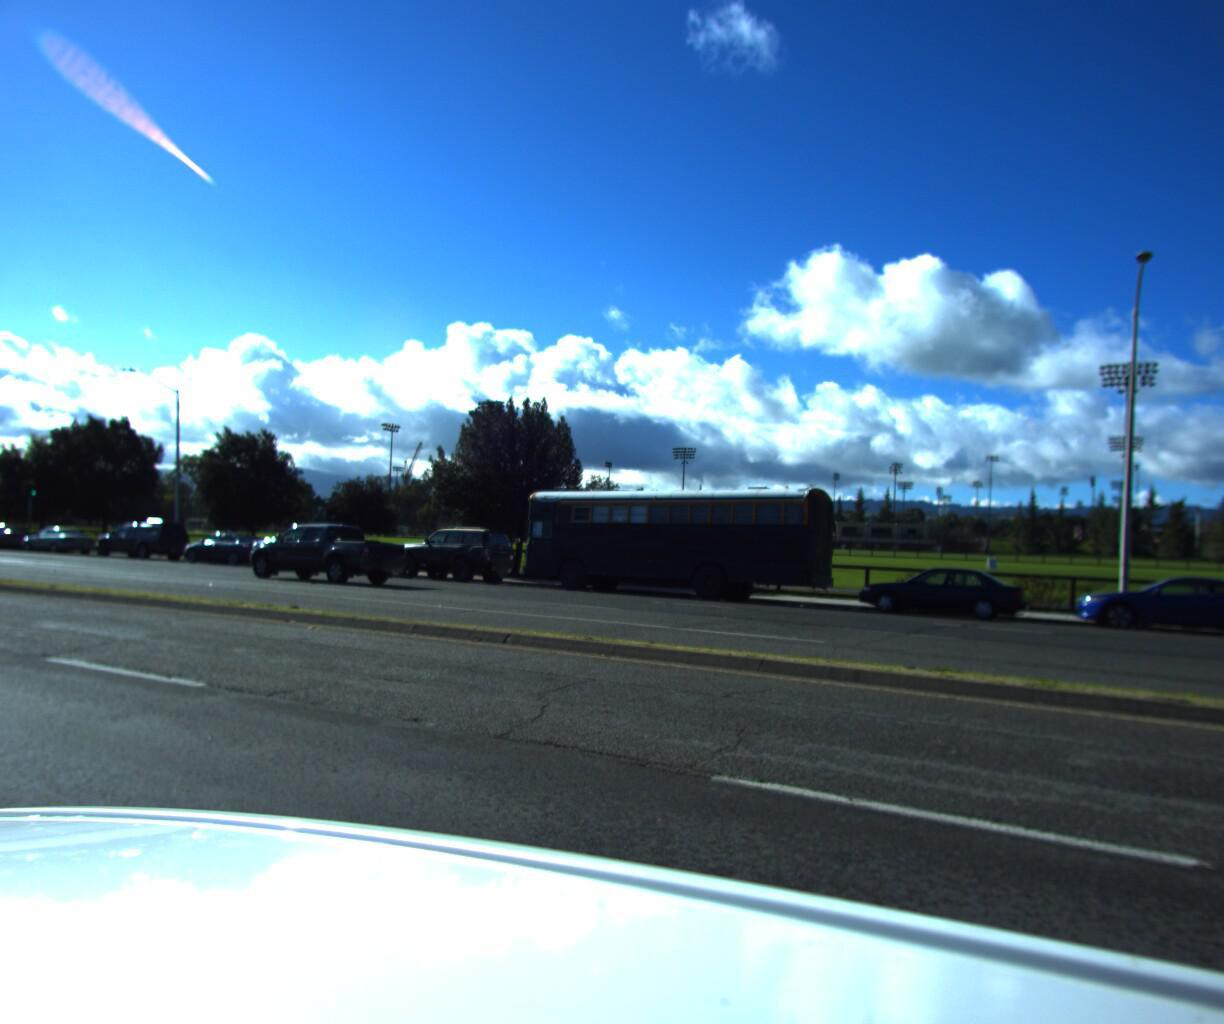bus: (507, 473, 844, 610)
car: (1065, 563, 1224, 647), (848, 556, 1030, 623), (236, 518, 412, 584), (384, 519, 521, 585), (266, 518, 406, 576), (84, 513, 194, 560), (171, 526, 283, 567), (13, 522, 99, 552), (0, 519, 43, 549)
